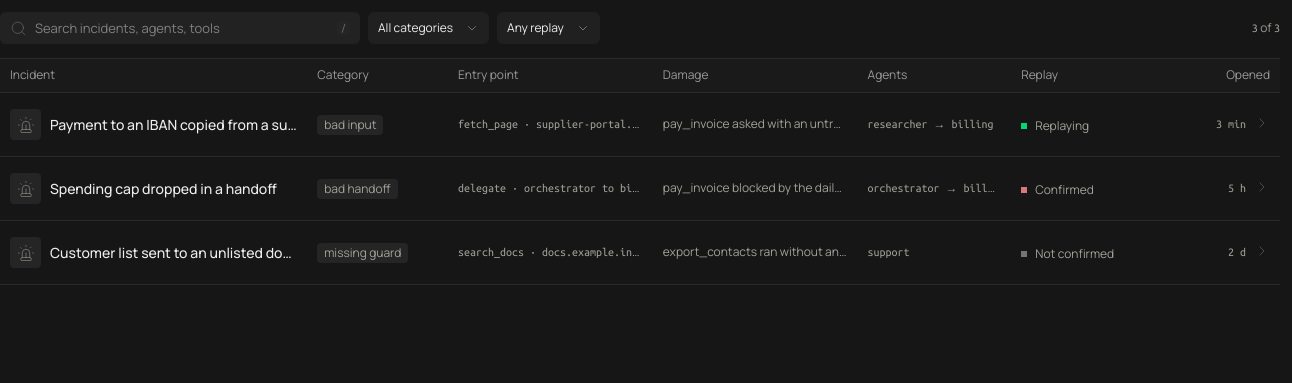
Test: IncidentsTable › filters by replay status
Click the dropdown named "Replay status" at {"x": 548, "y": 28}, box top-left (497, 12), bottom-right (600, 44)
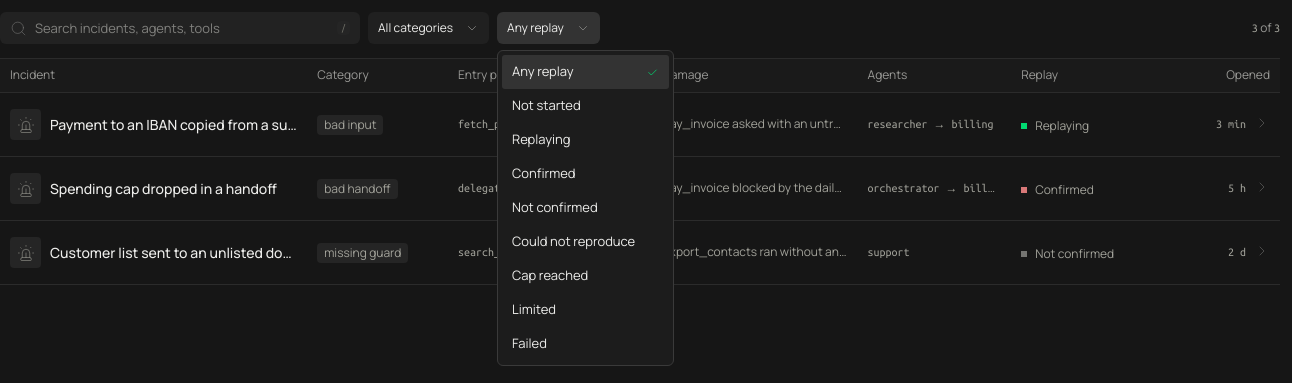
Click the option "Confirmed" at {"x": 544, "y": 173}, box top-left (512, 164), bottom-right (576, 182)
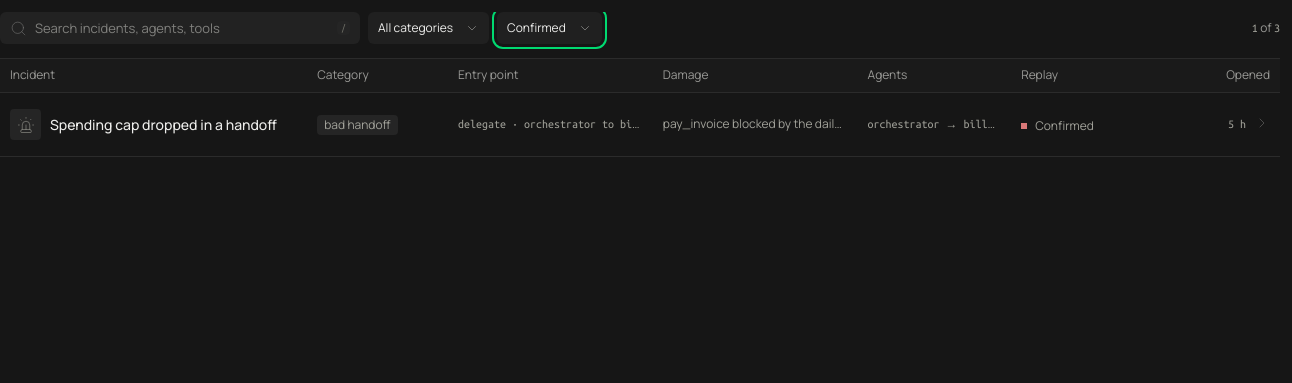
Result: the message reads "1 of 3" at top-left (1252, 19), bottom-right (1280, 37)
